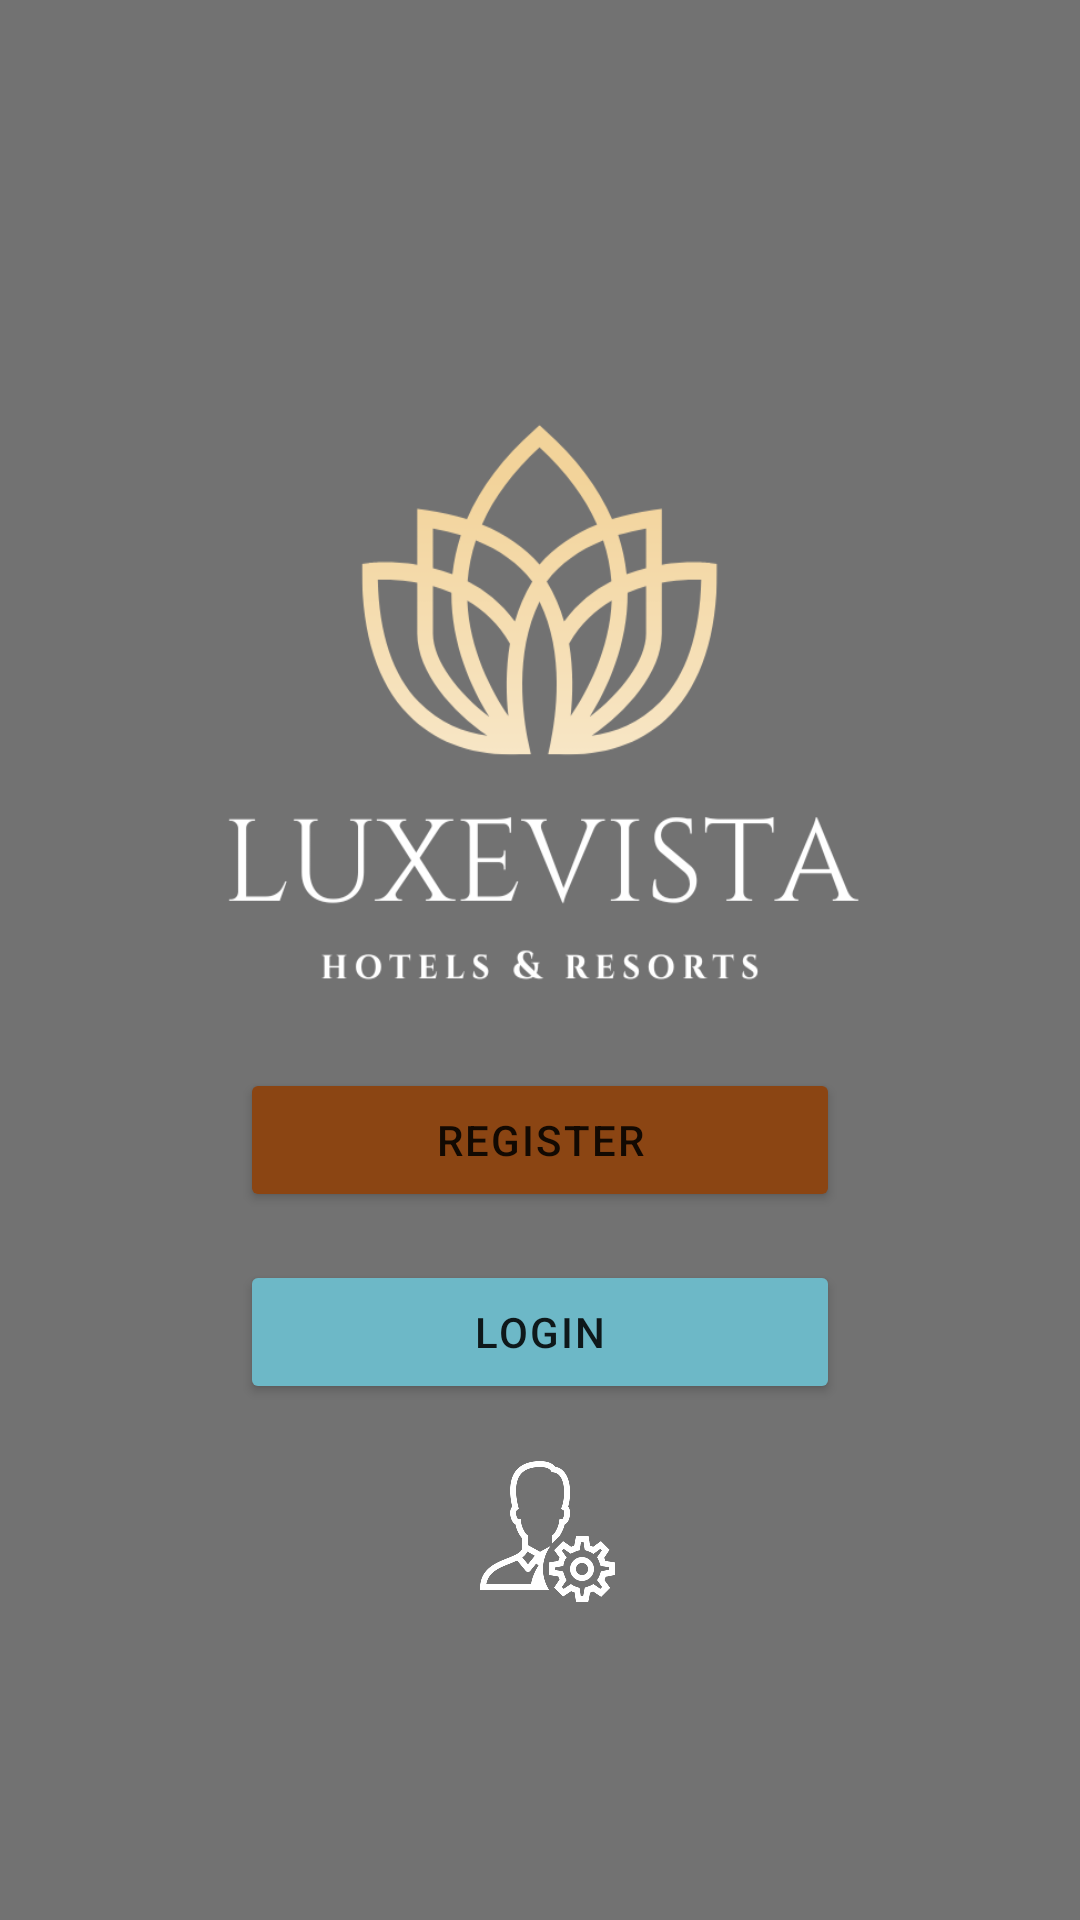

Where to tap for icons on this 1080 × 1920 app screen, as point (x, y):
adminicon: point (547, 1531)
